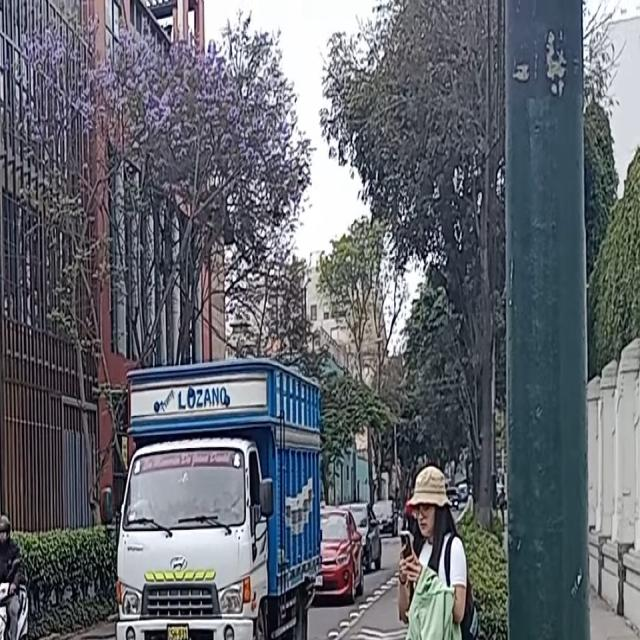car: (317, 507, 363, 602), (346, 501, 384, 566)
motorcycle: (0, 566, 30, 640)
truck: (116, 368, 320, 640)
